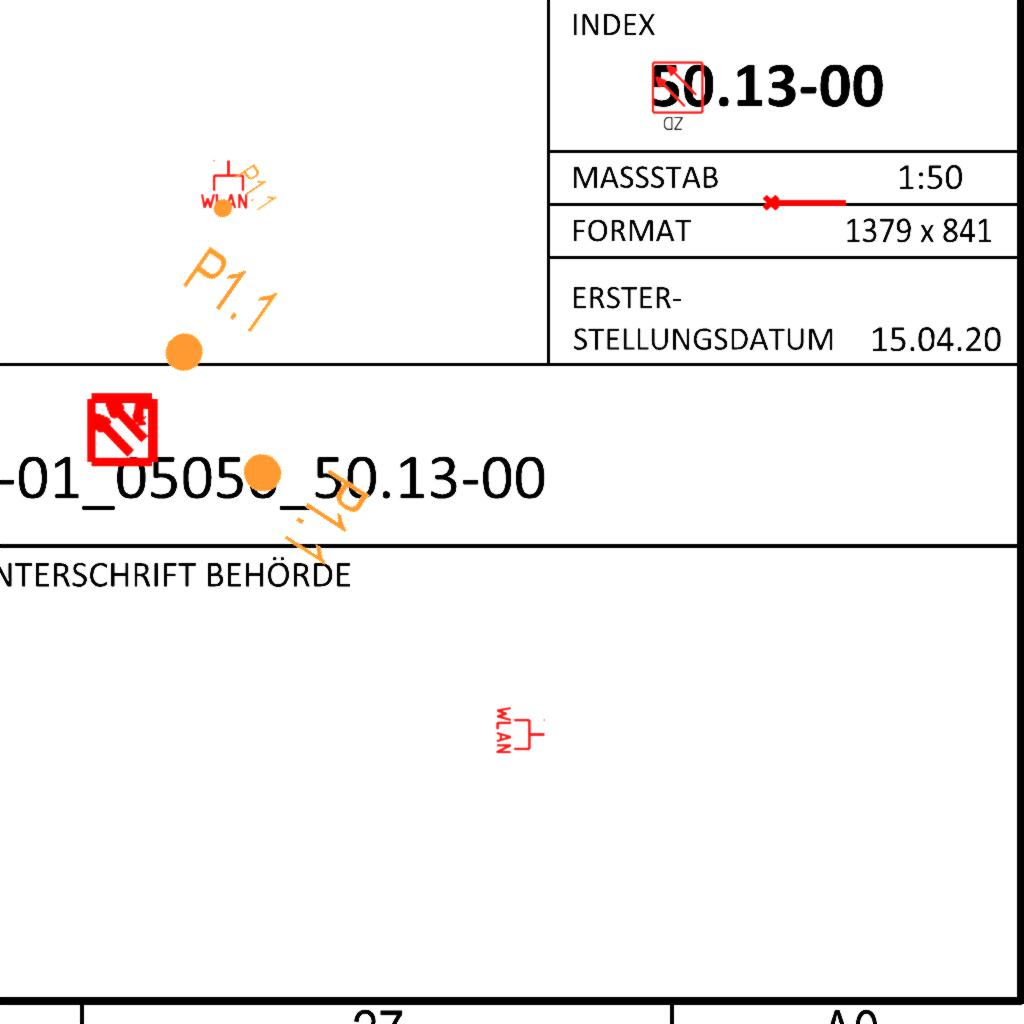ASR_Ansaugoeffnung: (761, 190, 849, 213)
Downlight_LED_Einbauleuchten_Flur: (135, 240, 286, 400), (216, 424, 375, 572), (201, 161, 281, 235)
OT_Multisensormelder_(Kombination_RMO_WMD): (66, 371, 179, 484)
WLAN: (495, 704, 547, 756), (198, 158, 250, 210)
ZD_Melder_in_Zwischendecke_mit_Revisionsoeffnung_mind_40_x_40_cm: (650, 60, 707, 134)
